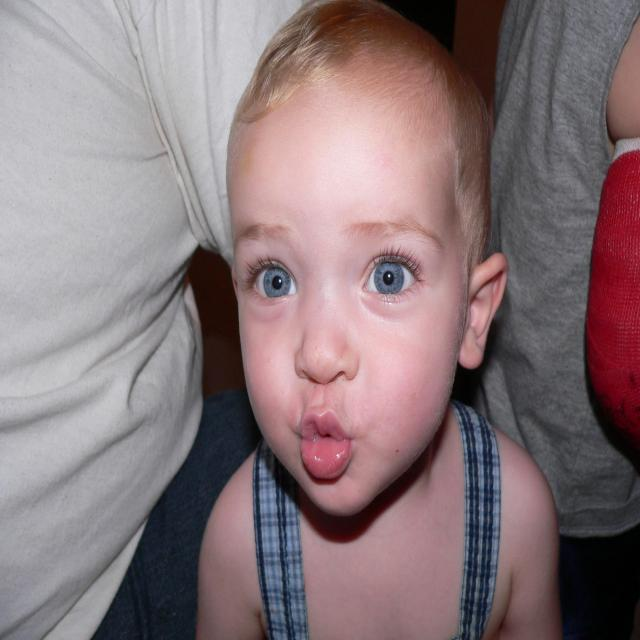no-glass: (250, 252, 422, 305)
